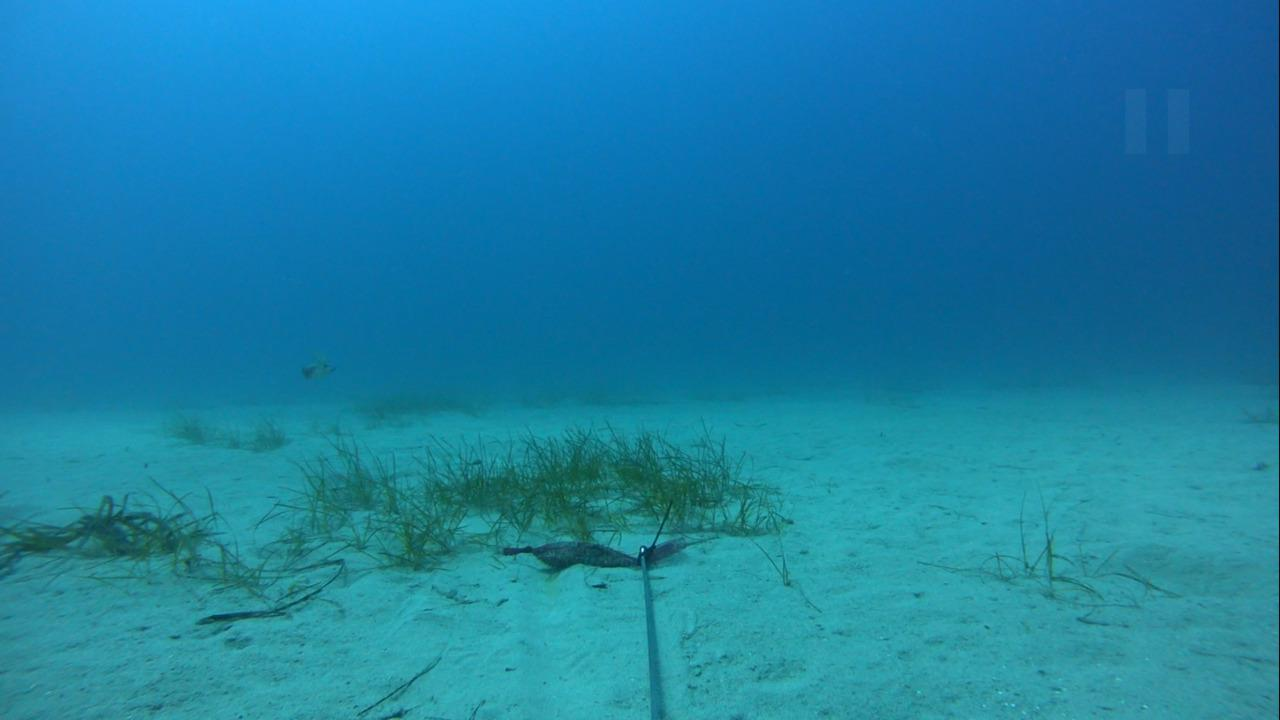dactylopterus: (291, 353, 342, 382)
